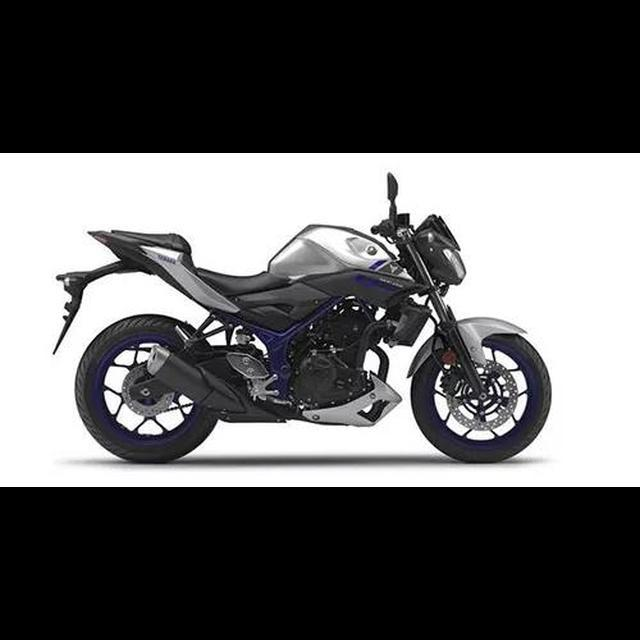motorcycle: (47, 165, 558, 469)
